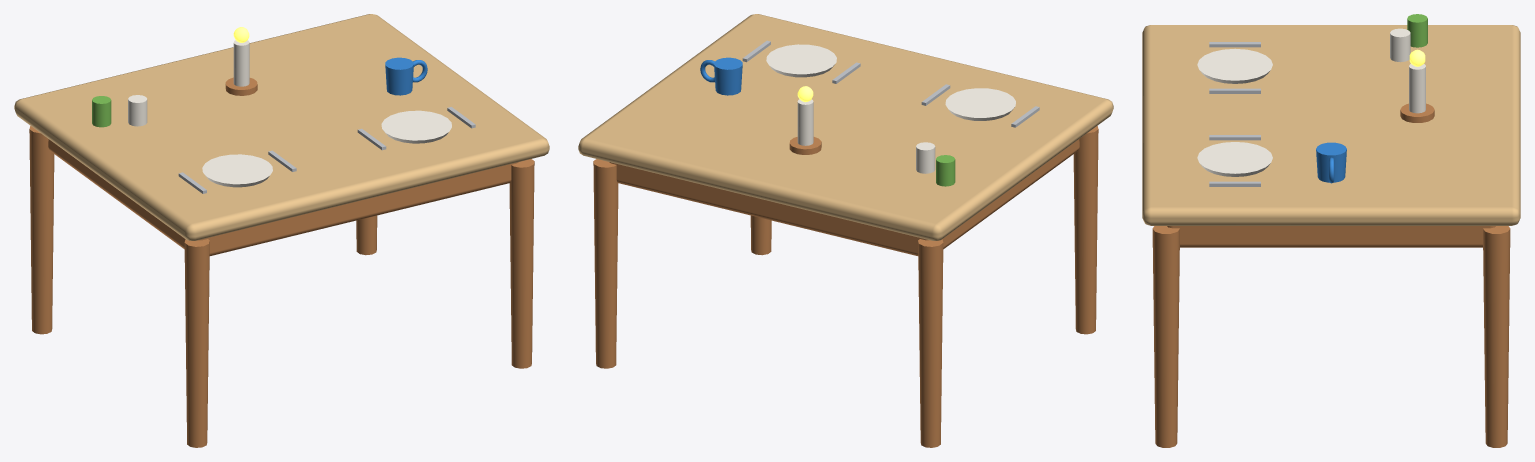
The model's file is dining-square.glb.
The picture shows the model from 3 angles, left to right: view 1: azimuth 30°, elevation 25°; view 2: azimuth 150°, elevation 25°; view 3: azimuth 270°, elevation 25°; orthographic projection. The views are drawn at different scales.
Bounding box in the file's own units: 1.3 × 0.99 × 1.1.
